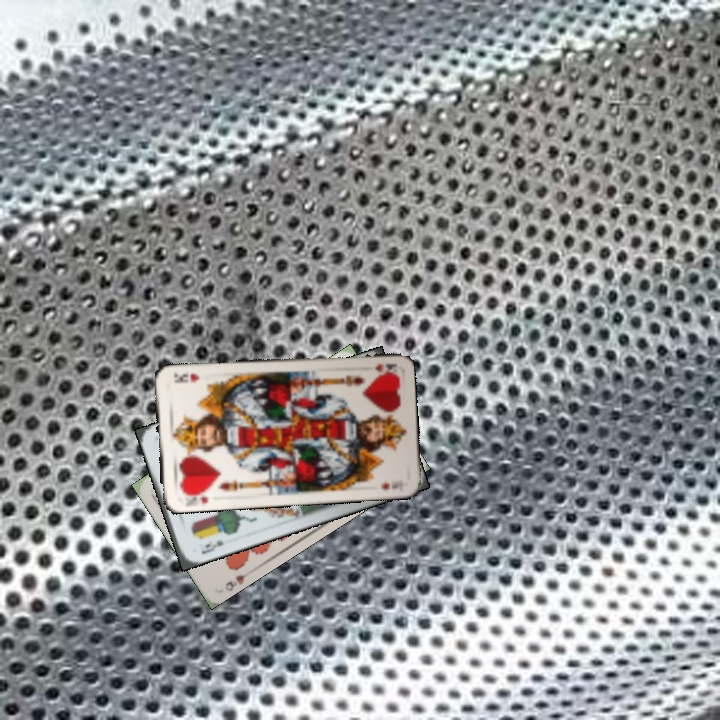EK: (198, 536, 226, 557)
H9: (221, 567, 252, 592)
HK: (179, 487, 211, 506), (371, 359, 398, 374)
